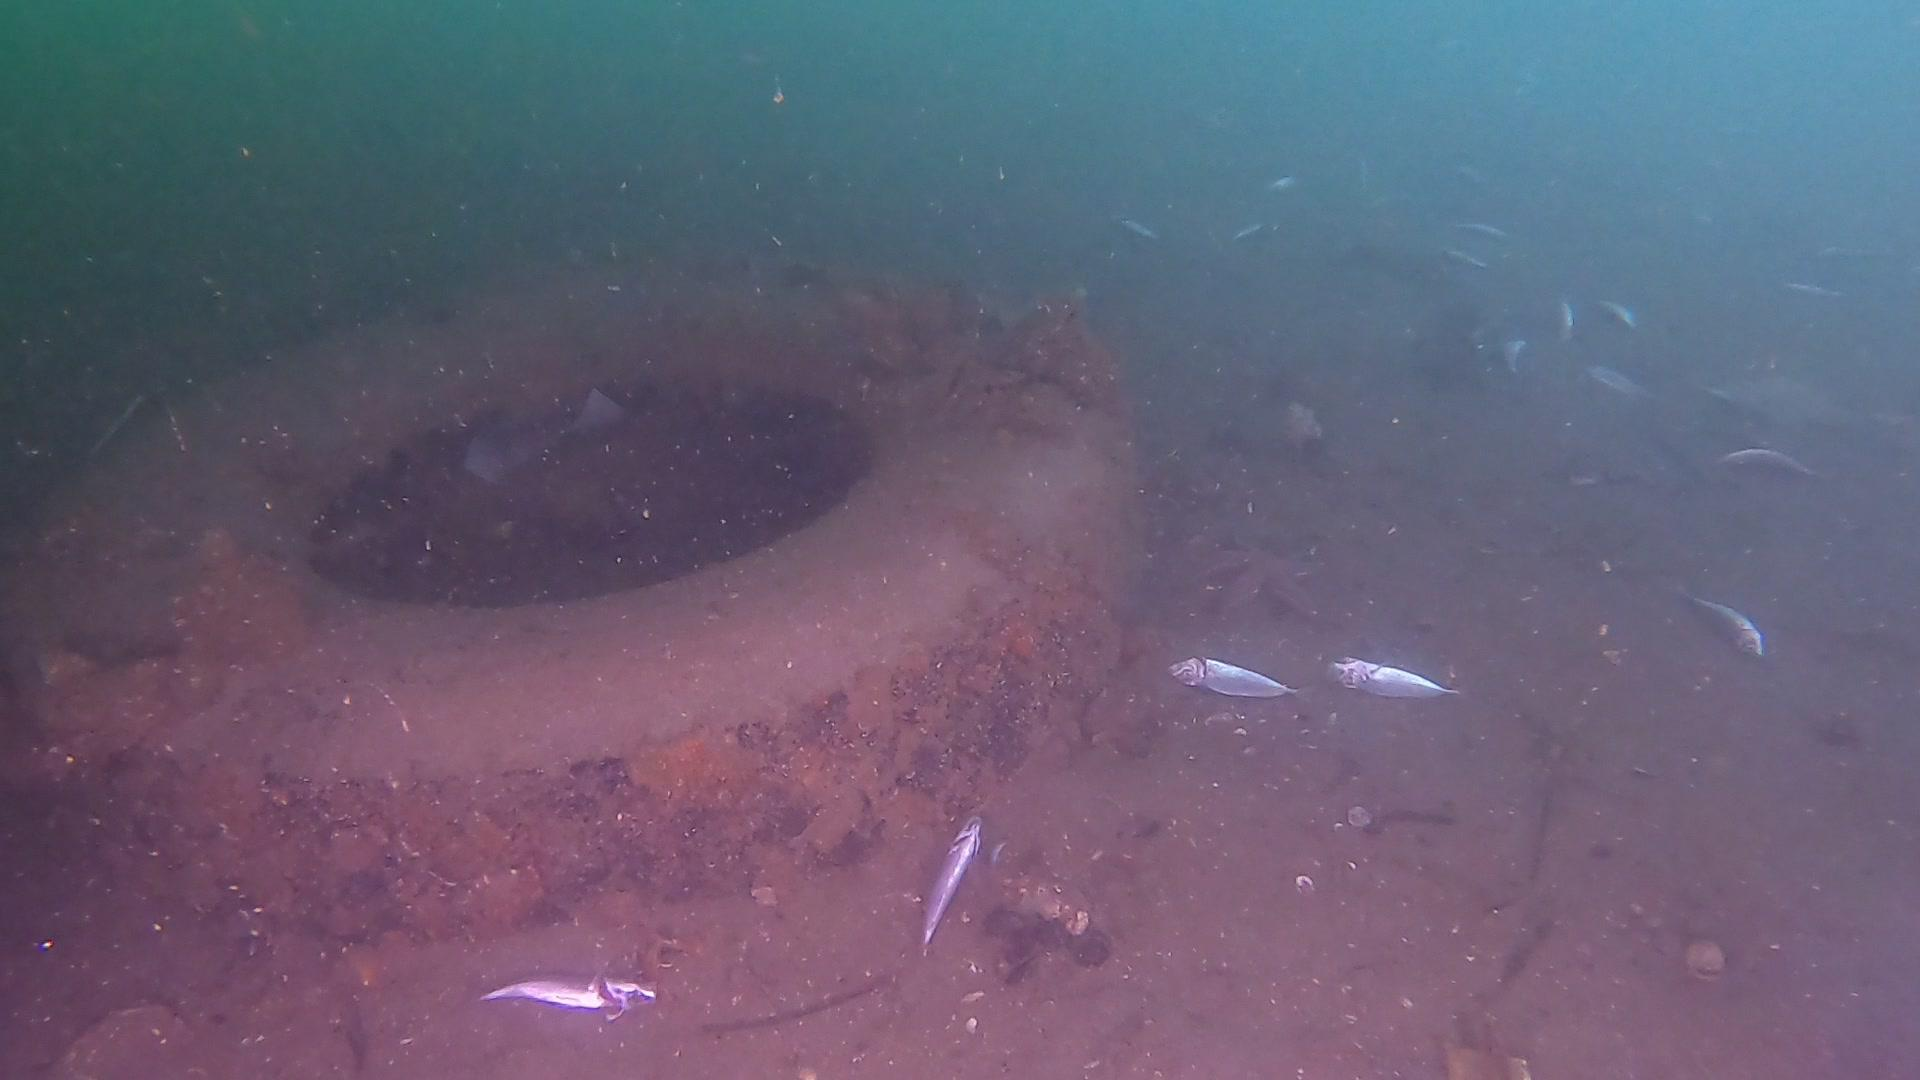tire: (26, 247, 1147, 945)
